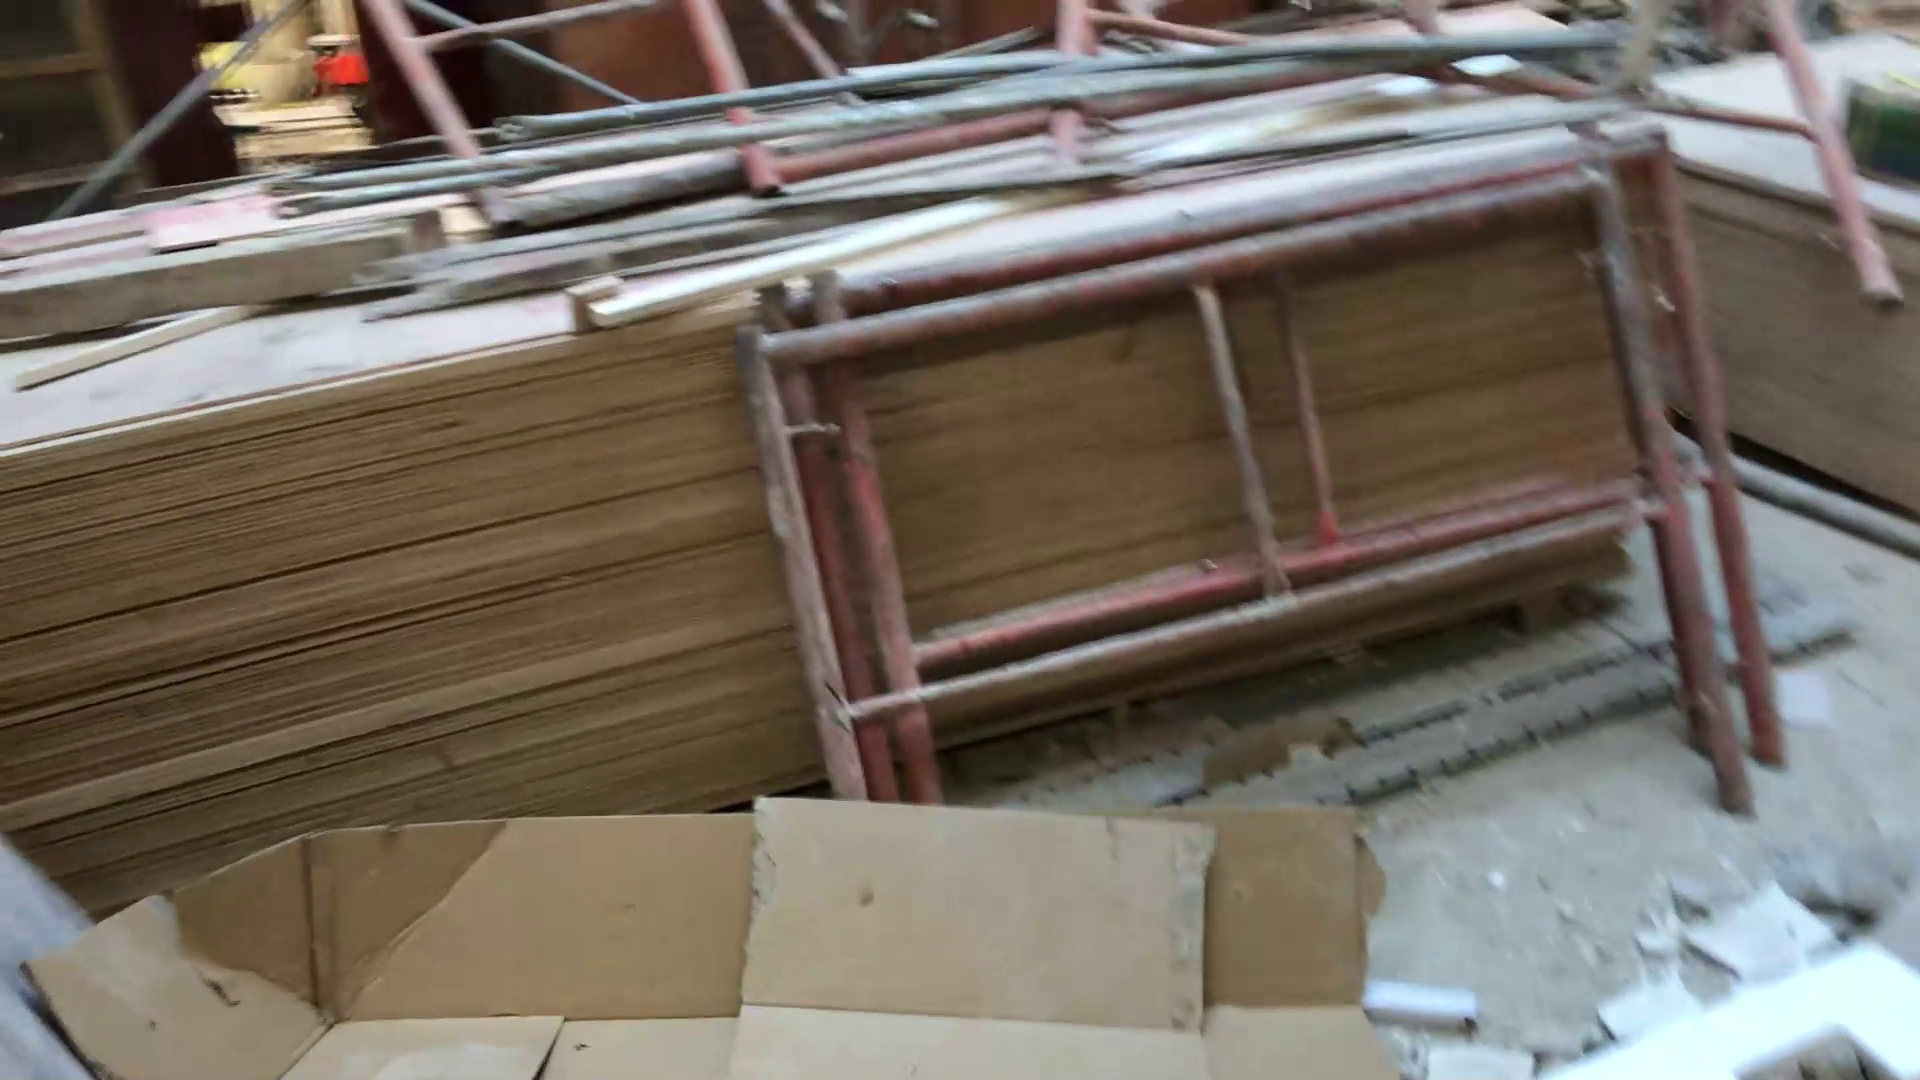board: (16, 158, 1659, 778)
